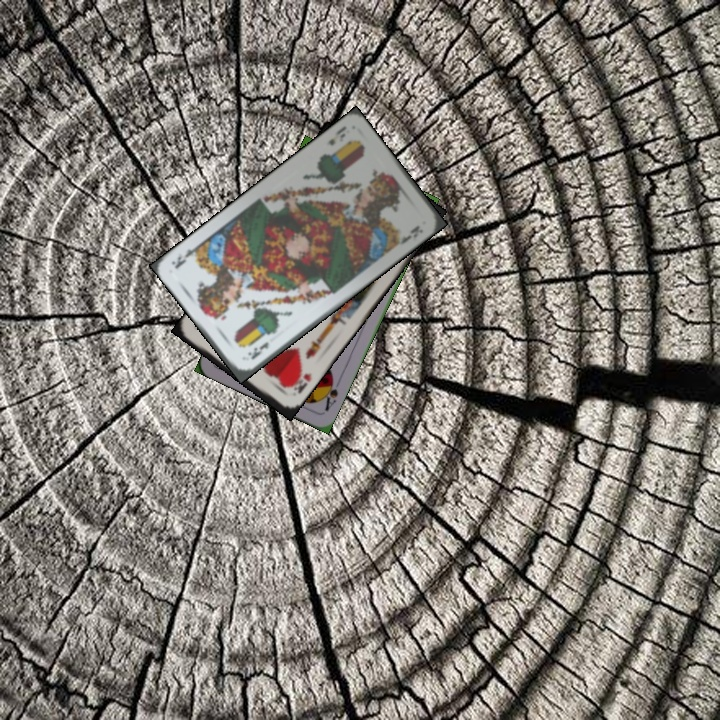EK: (322, 122, 349, 148), (244, 337, 271, 362)
HK: (284, 365, 314, 396)
SA: (317, 374, 340, 414)
